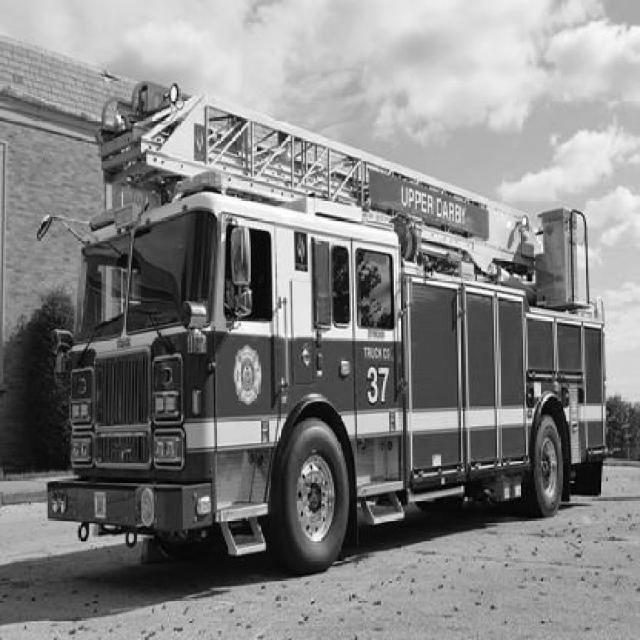Fire Truck: (33, 82, 608, 579)
